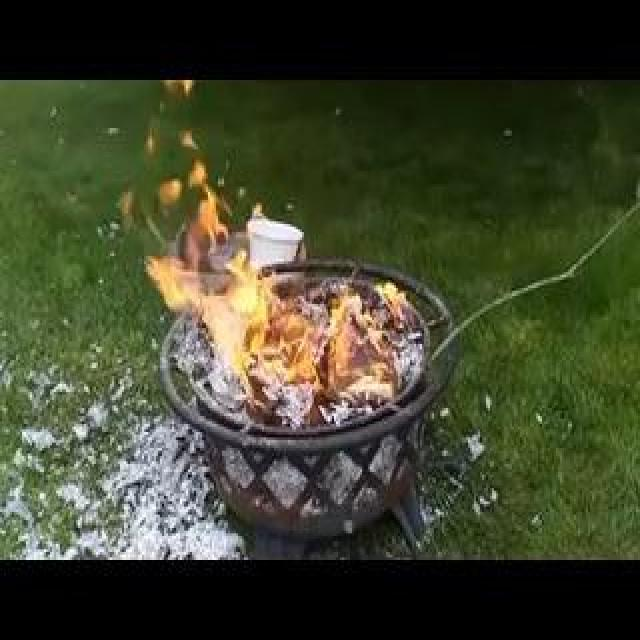Fire: (252, 278, 293, 286)
